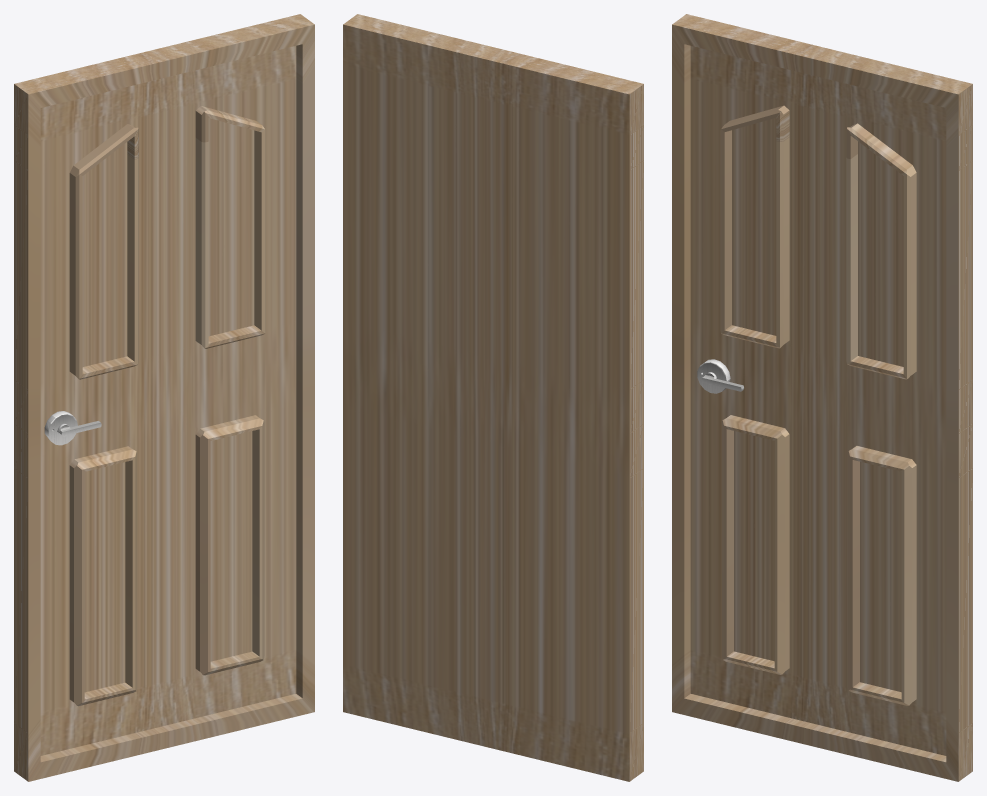
File: Door_Toilet.fbx
The picture shows the model from 3 angles, left to right: view 1: azimuth 30°, elevation 25°; view 2: azimuth 150°, elevation 25°; view 3: azimuth 330°, elevation 25°; orthographic projection.
Visible parts, largest first — view 1: pCube17; view 2: pCube17; view 3: pCube17.
Boxes of the visible parts, left/top/right/bottom form: pCube17: left=14, top=14, right=314, bottom=781; pCube17: left=343, top=14, right=643, bottom=781; pCube17: left=672, top=14, right=972, bottom=781.
Bounding box in the file's own units: 14.95 × 34.29 × 1.47.
3 materials, 3 textured.
